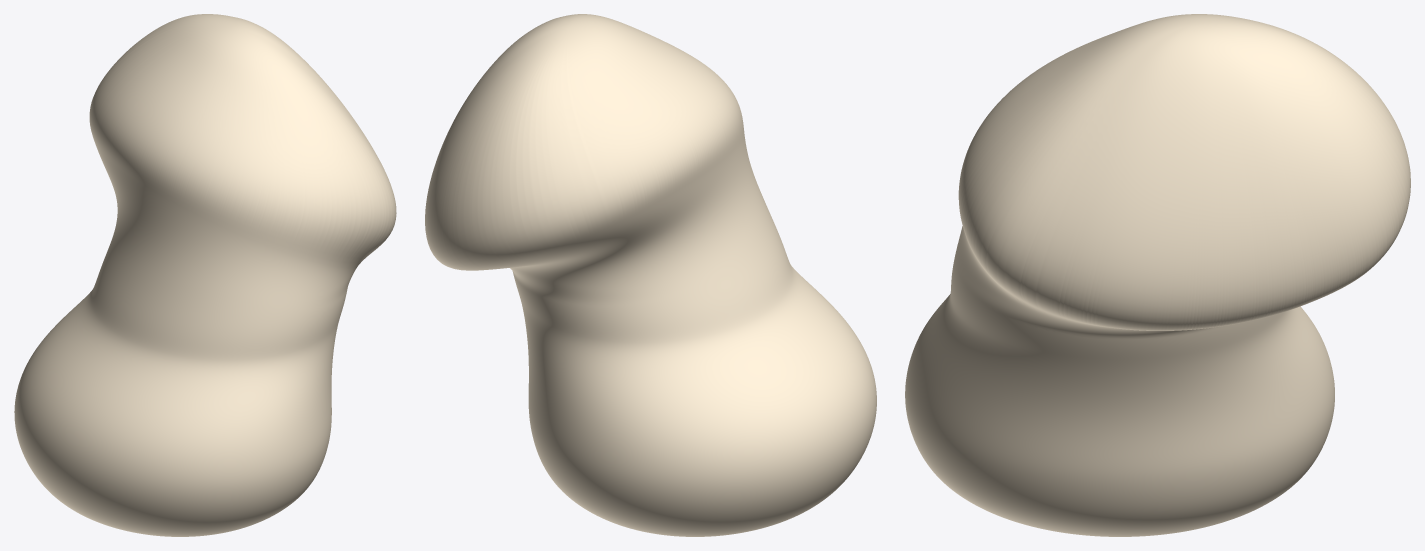
Rendered from leg-left.glb.
The picture shows the model from 3 angles, left to right: view 1: azimuth 30°, elevation 25°; view 2: azimuth 150°, elevation 25°; view 3: azimuth 270°, elevation 25°; orthographic projection. The views are drawn at different scales.
Parts seen in each view (by area): view 1: Leg_L; view 2: Leg_L; view 3: Leg_L.
Part boxes in pixels (x1,y1,x2,y2): Leg_L: (14, 14, 396, 536); Leg_L: (425, 14, 876, 536); Leg_L: (905, 14, 1410, 536).
Size of the model in its own units: 25.91 by 31.5 by 27.05.
